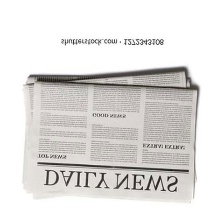news_paper: (20, 64, 208, 204)
